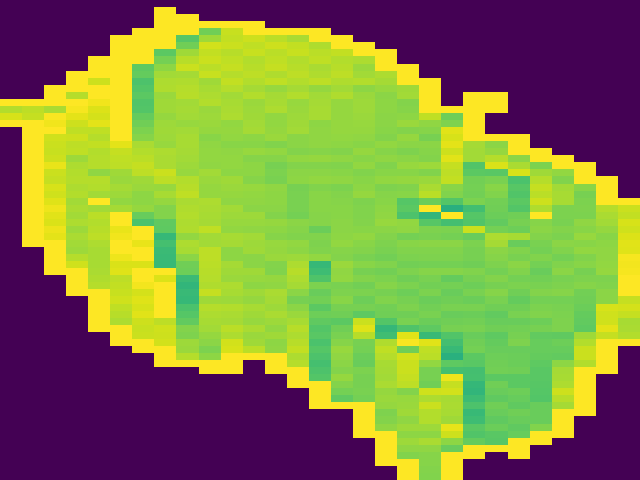car_0027: (1, 1, 637, 480)
